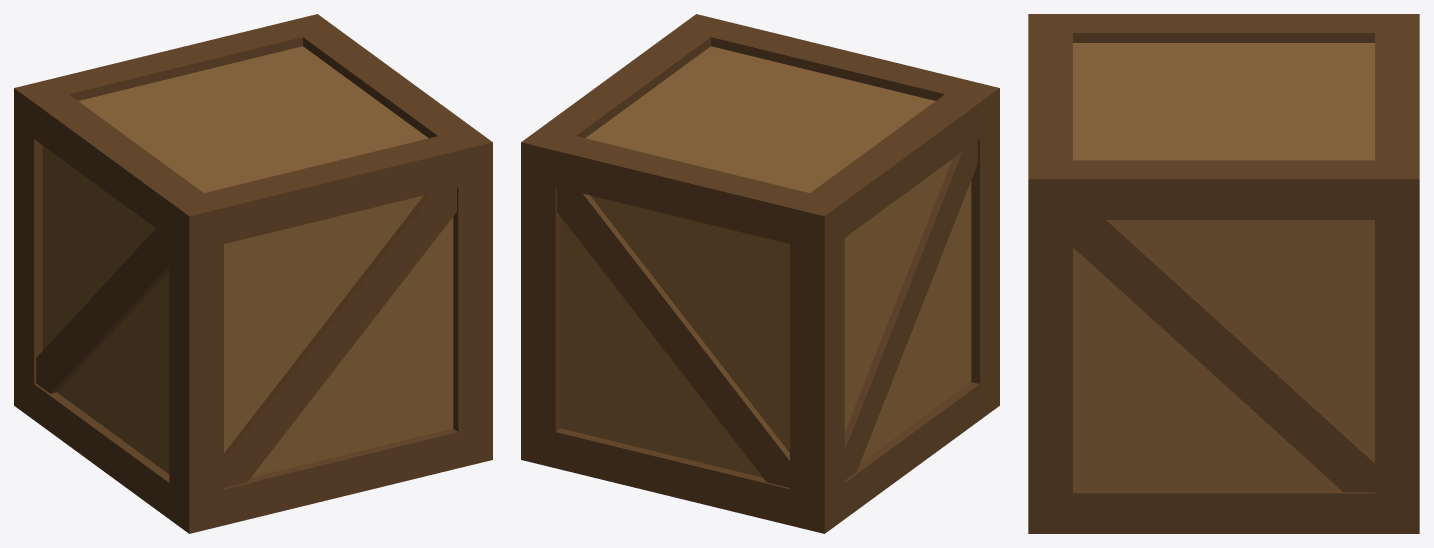
Rendered from prop_crate.glb.
The picture shows the model from 3 angles, left to right: view 1: azimuth 30°, elevation 25°; view 2: azimuth 150°, elevation 25°; view 3: azimuth 270°, elevation 25°; orthographic projection. The views are drawn at different scales.
Visible parts, largest first — view 1: prop_crate_mesh; view 2: prop_crate_mesh; view 3: prop_crate_mesh.
Boxes of the visible parts, left/top/right/bottom form: prop_crate_mesh: left=14, top=14, right=492, bottom=533; prop_crate_mesh: left=521, top=14, right=999, bottom=533; prop_crate_mesh: left=1028, top=14, right=1419, bottom=533.
Bounding box in the file's own units: 0.7 × 0.7 × 0.7.
Materials: 1 (1 with a texture image).
